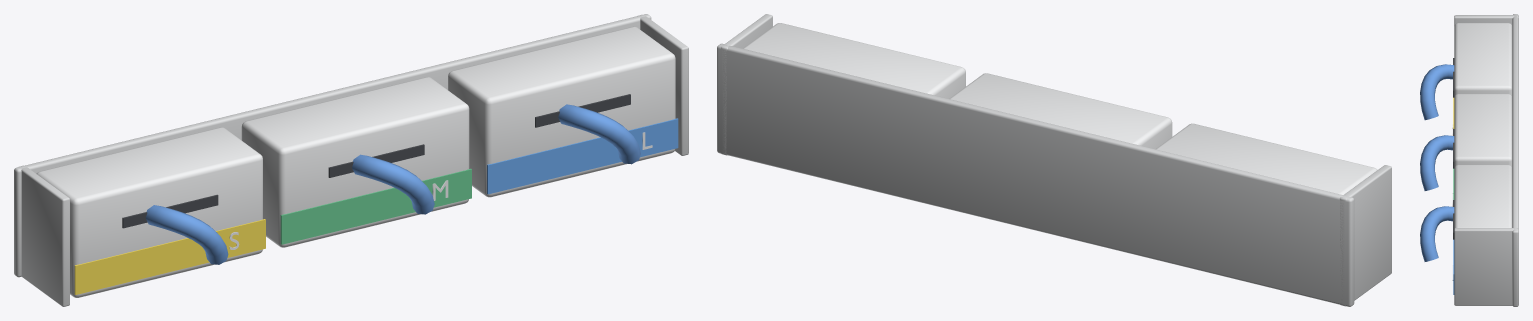
Rendered from boites_gants.glb.
3 renders of one model, left to right at view 1: azimuth 30°, elevation 25°; view 2: azimuth 150°, elevation 25°; view 3: azimuth 270°, elevation 25°, orthographic. The views are drawn at different scales.
Parts seen in each view (by area): view 1: boites_gants; view 2: boites_gants; view 3: boites_gants.
Boxes of the visible parts, box(x1,y1,x2,y2) form: boites_gants: box(14, 14, 688, 306); boites_gants: box(717, 14, 1391, 306); boites_gants: box(1420, 14, 1518, 306).
Size of the model in its own units: 0.8 by 0.13 by 0.153.
